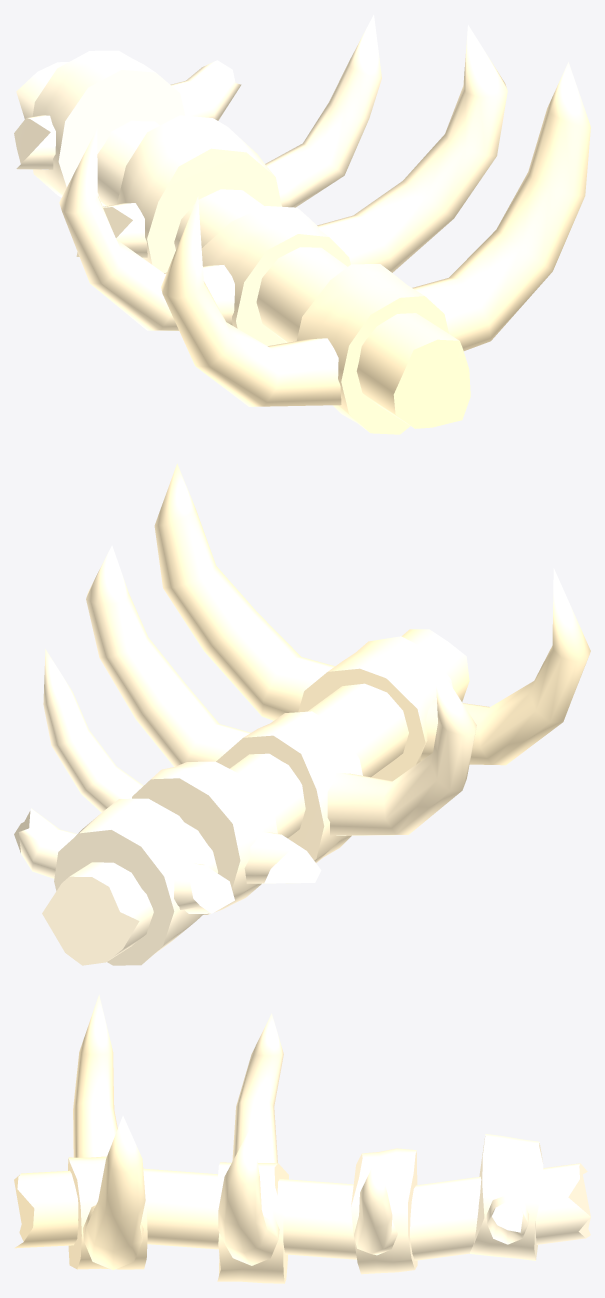
File: spine_001.glb
3 views of the same model, one above another, from view 1: azimuth 30°, elevation 25°; view 2: azimuth 150°, elevation 25°; view 3: azimuth 270°, elevation 25° (orthographic). The views are drawn at different scales.
Visible parts, largest first — view 1: spine_001; view 2: spine_001; view 3: spine_001.
Part boxes in pixels (x1=…): spine_001: x1=14, y1=15, x2=590, y2=434; spine_001: x1=14, y1=463, x2=590, y2=965; spine_001: x1=14, y1=994, x2=590, y2=1283.
Size of the model in its own units: 2.84 by 1.93 by 4.23.
Materials: 1 (1 with a texture image).
